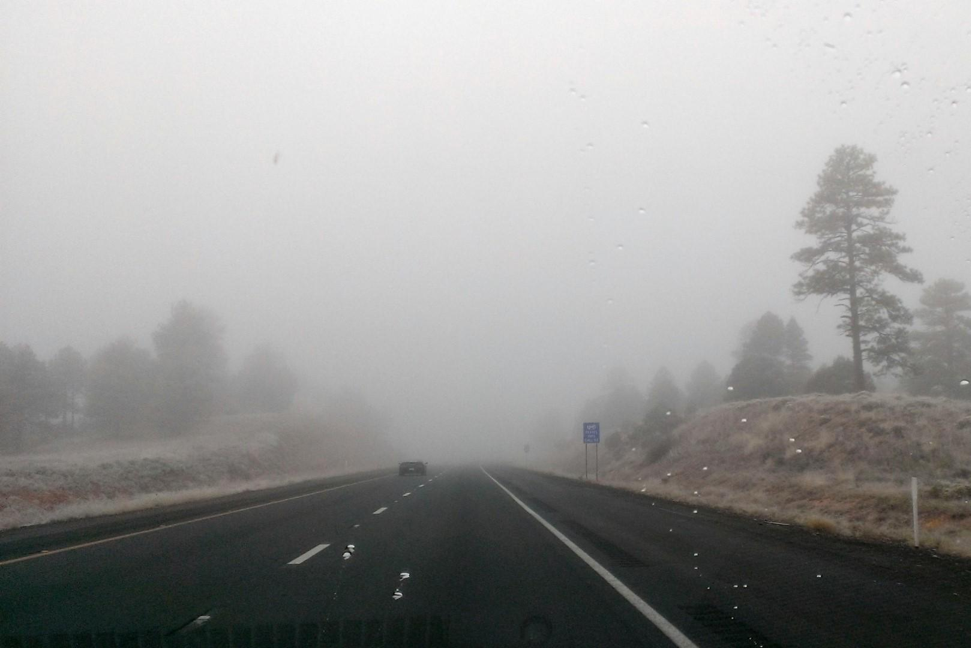car: (397, 456, 429, 476)
